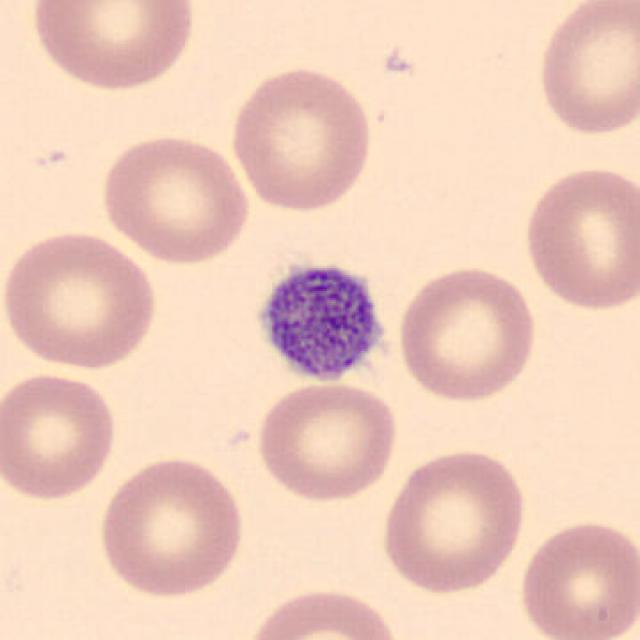Platelets: (244, 250, 396, 388)
RBC: (0, 226, 162, 372), (377, 444, 531, 596), (226, 62, 377, 215), (94, 453, 247, 601), (94, 130, 254, 266), (393, 261, 540, 405), (252, 378, 402, 504), (519, 162, 638, 314), (0, 368, 121, 504), (27, 0, 201, 93), (513, 516, 638, 640), (531, 0, 638, 139), (241, 583, 405, 640)
